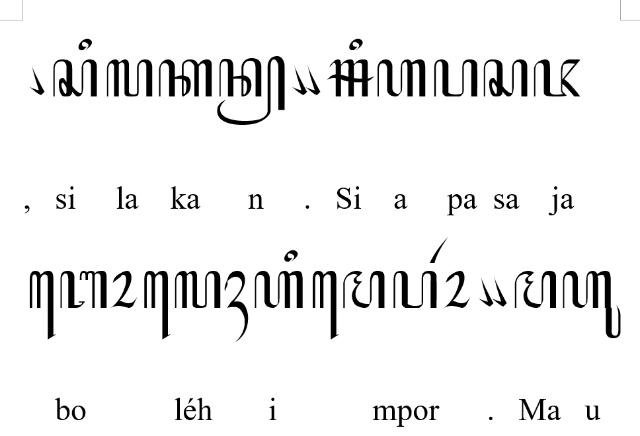-n: (217, 55, 286, 125)
S: (327, 59, 375, 97)
_h1: (225, 270, 249, 344)
_r1: (428, 236, 448, 264)
b: (60, 270, 108, 310)
e1: (143, 270, 171, 340), (30, 270, 56, 340), (312, 270, 338, 340)
h: (377, 58, 427, 98), (254, 271, 304, 309)
hu: (562, 271, 622, 339)
i: (349, 37, 363, 51), (78, 38, 92, 50), (284, 250, 298, 262)
j: (534, 58, 580, 98)
k: (157, 57, 213, 96)
kom: (29, 64, 45, 96), (291, 64, 307, 96), (304, 64, 320, 96), (491, 275, 507, 307), (478, 276, 494, 307)
l: (106, 58, 154, 98), (174, 272, 222, 308)
m: (342, 270, 384, 308), (515, 270, 557, 308)
o: (110, 270, 138, 310), (443, 271, 471, 309)
p: (432, 58, 478, 98), (392, 270, 438, 310)
s: (484, 58, 528, 98), (53, 59, 97, 97)
